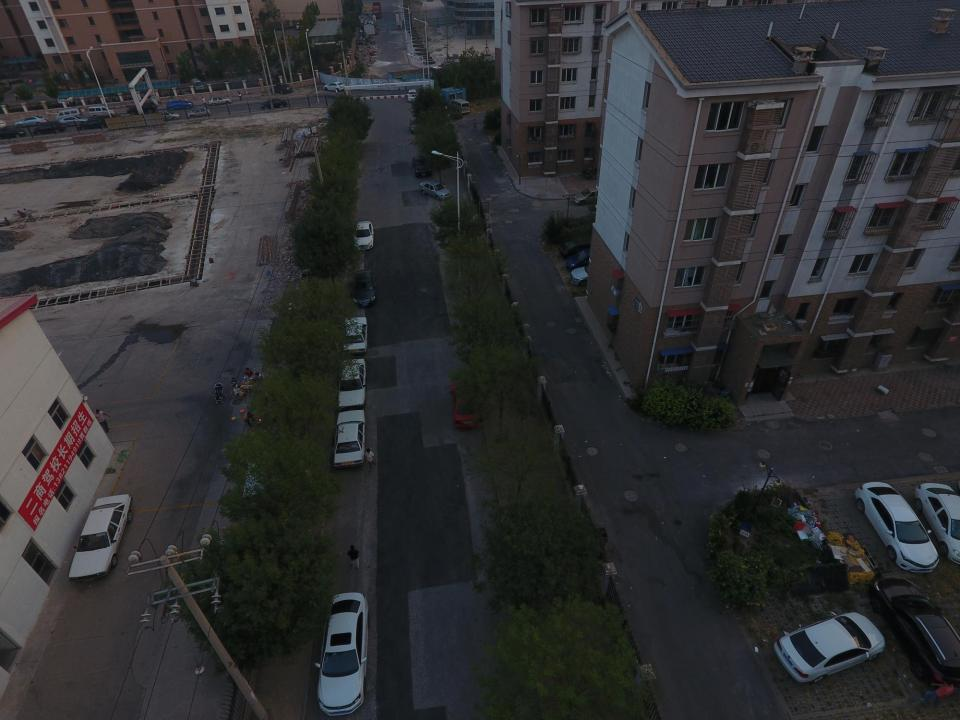car: (869, 578, 960, 692), (772, 609, 886, 683), (854, 482, 940, 573), (314, 591, 370, 716), (68, 493, 134, 584), (915, 482, 960, 565), (449, 370, 484, 430), (332, 408, 366, 468), (336, 357, 366, 411), (564, 248, 618, 272), (558, 236, 609, 260), (348, 268, 378, 308), (570, 263, 618, 288), (341, 316, 368, 356), (419, 179, 453, 201), (352, 221, 374, 250), (573, 187, 604, 205), (31, 120, 66, 135), (126, 100, 157, 116), (15, 115, 48, 129), (77, 117, 111, 130), (412, 155, 432, 177), (0, 125, 26, 139), (166, 99, 194, 111), (260, 98, 287, 110), (154, 109, 181, 121), (409, 116, 425, 134), (270, 82, 292, 94), (186, 107, 210, 118), (207, 96, 232, 106), (323, 81, 346, 91), (407, 89, 419, 102)
truck: (372, 1, 382, 19)
van: (54, 106, 83, 121), (449, 98, 472, 115), (88, 105, 116, 118), (191, 77, 205, 91)
